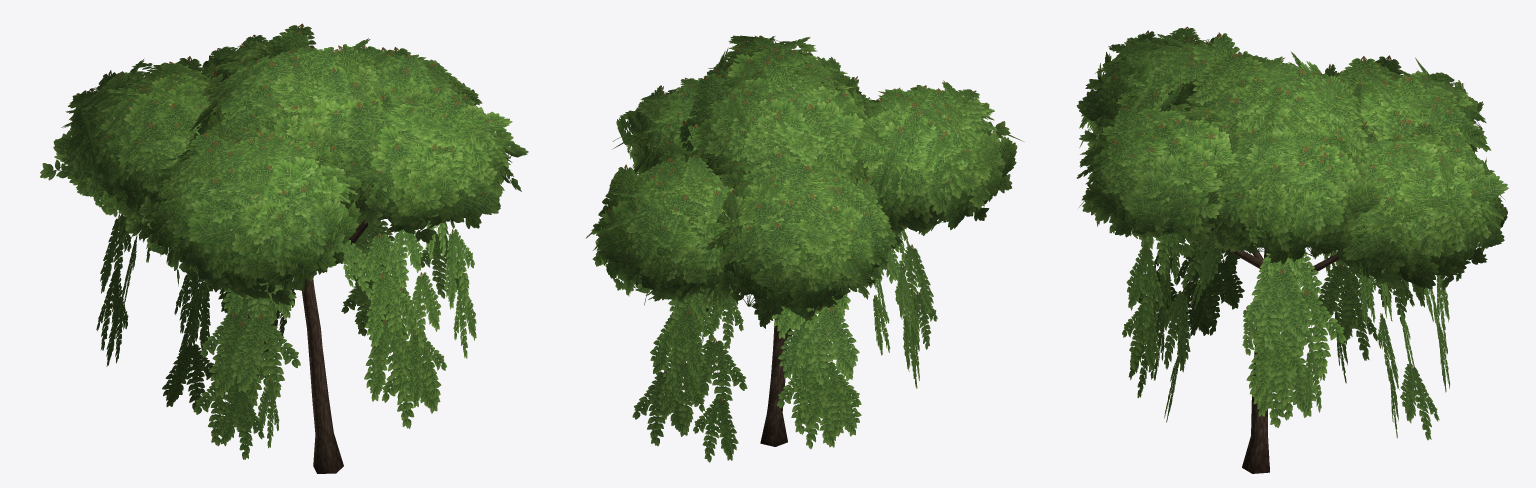
The model's file is keora_b_lod1.glb.
The picture shows the model from 3 angles, left to right: view 1: azimuth 30°, elevation 25°; view 2: azimuth 150°, elevation 25°; view 3: azimuth 270°, elevation 25°; orthographic projection. The views are drawn at different scales.
Visible parts, largest first — view 1: leaves, wood; view 2: leaves, wood; view 3: leaves, wood.
Boxes of the visible parts, x1=… form: leaves: x1=40, y1=23, x2=528, y2=459; wood: x1=302, y1=220, x2=368, y2=473; leaves: x1=585, y1=35, x2=1023, y2=462; wood: x1=760, y1=318, x2=787, y2=446; leaves: x1=1076, y1=26, x2=1508, y2=440; wood: x1=1211, y1=228, x2=1339, y2=473.
Bounding box in the file's own units: 10.22 × 10.7 × 10.74.
2 materials, 2 textured.
